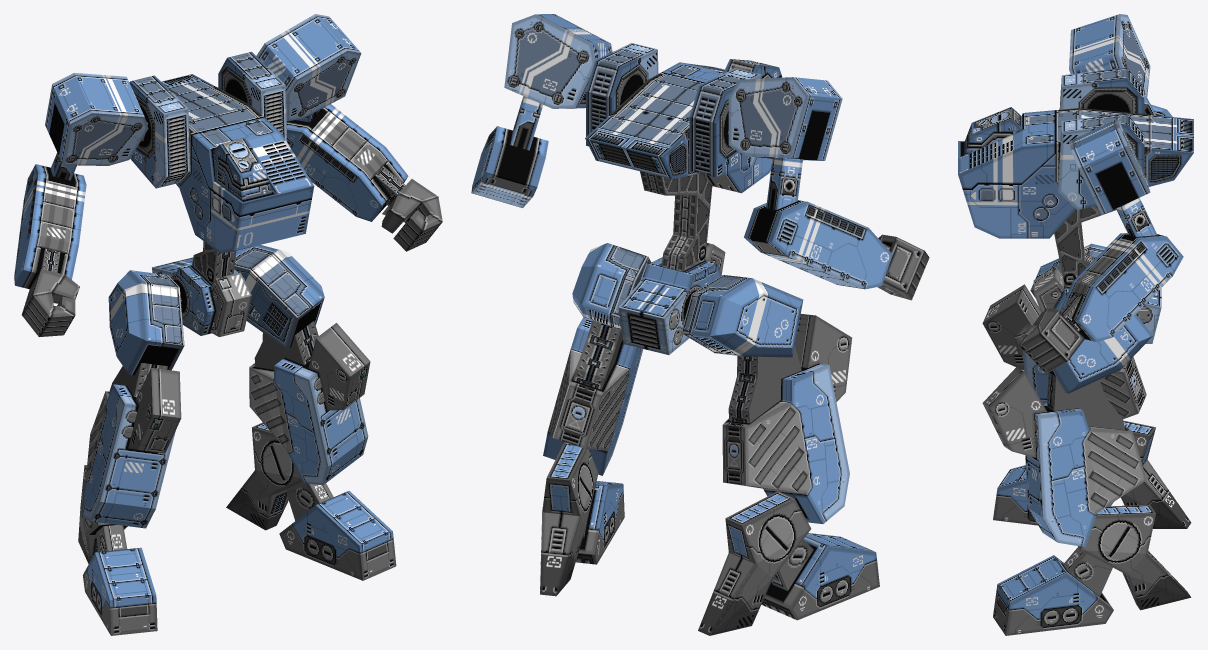
The model's file is meka.gltf.
The picture shows the model from 3 angles, left to right: view 1: azimuth 30°, elevation 25°; view 2: azimuth 150°, elevation 25°; view 3: azimuth 270°, elevation 25°; orthographic projection. The views are drawn at different scales.
Parts seen in each view (by area): view 1: meka; view 2: meka; view 3: meka.
Part boxes in pixels (left/top/right/bottom): meka: left=14, top=14, right=442, bottom=635; meka: left=471, top=14, right=929, bottom=635; meka: left=958, top=14, right=1193, bottom=635.
Bounding box in the file's own units: 6.06 × 7.35 × 3.16.
1 material, 1 textured.
